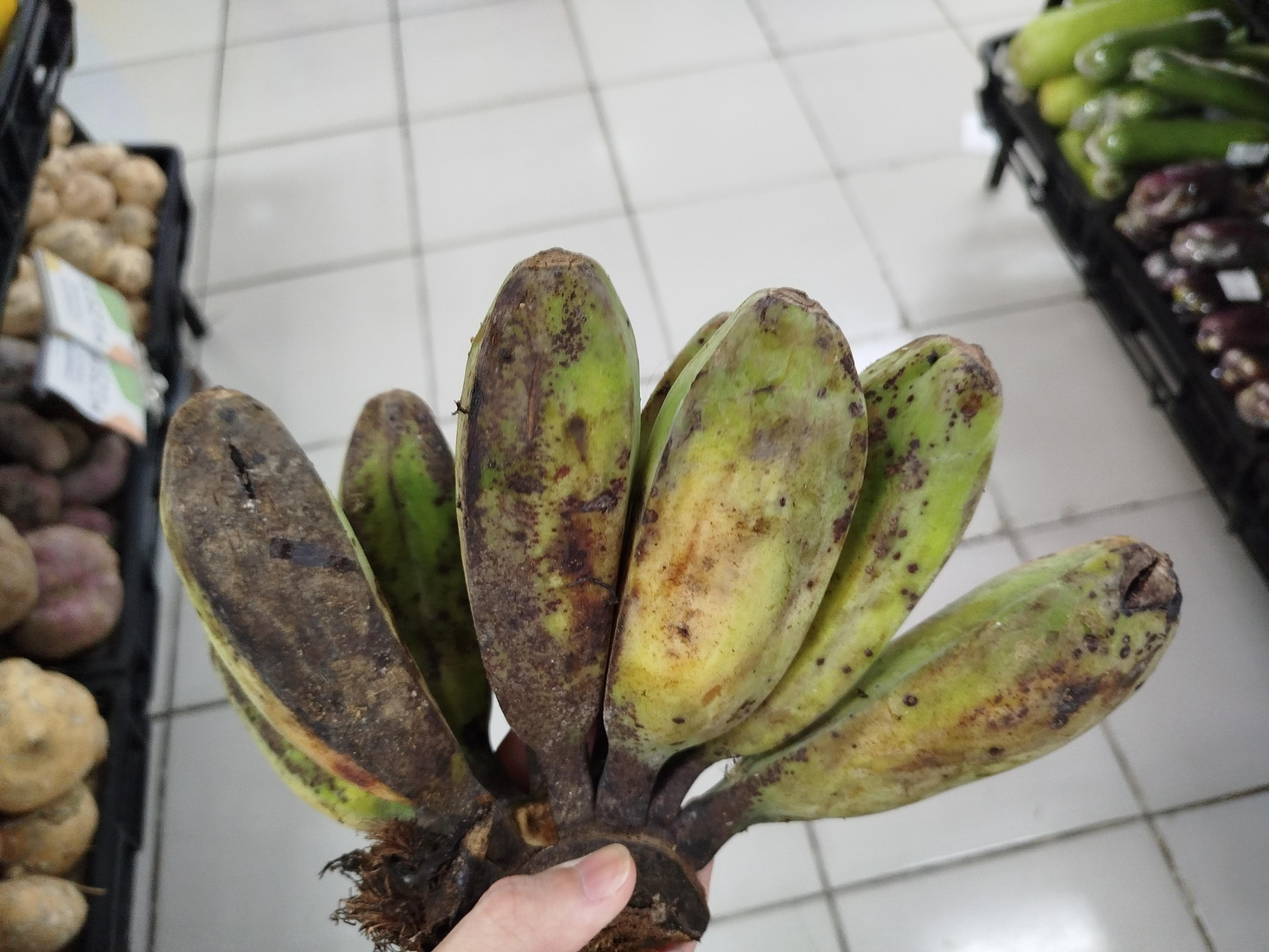underripe: (161, 248, 1181, 832)
